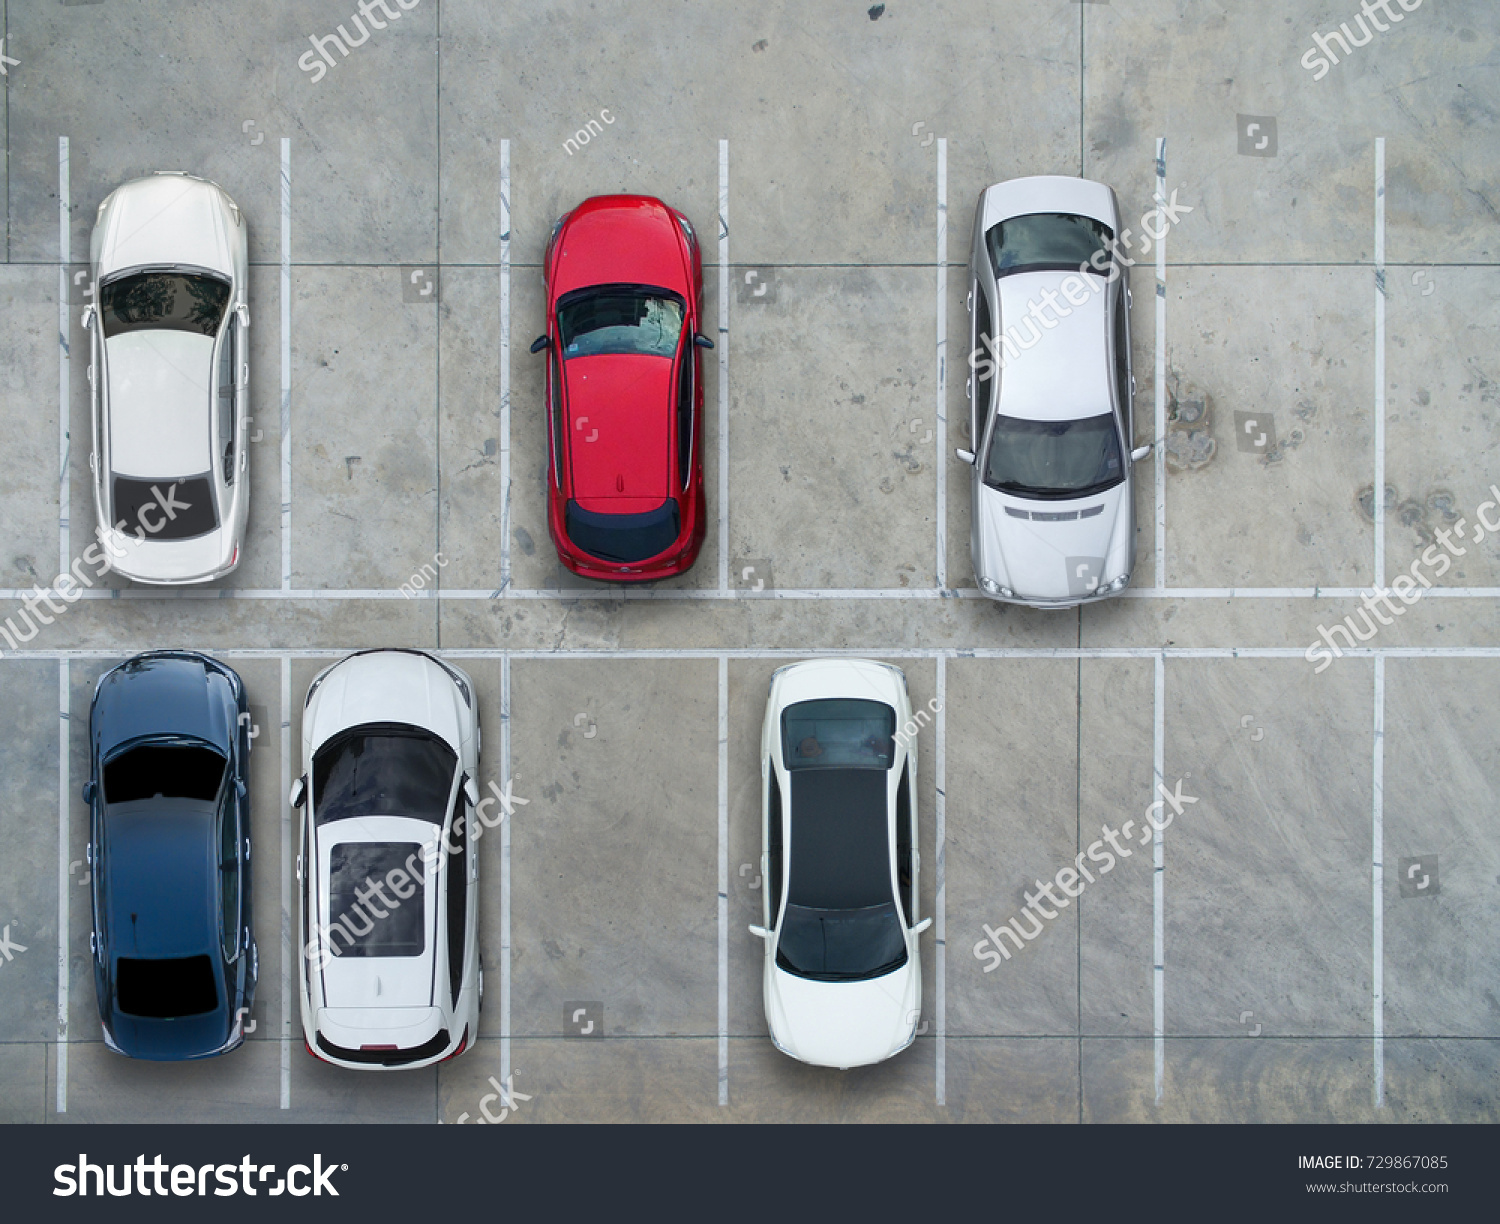Car: (292, 638, 485, 1079), (746, 654, 939, 1077), (80, 644, 268, 1066), (966, 168, 1137, 618), (87, 165, 265, 590), (541, 186, 711, 595)
LaneMark: (7, 644, 1500, 669), (698, 654, 743, 1126), (485, 653, 529, 1112), (44, 651, 87, 1121), (922, 651, 966, 1116), (1139, 649, 1180, 1123), (1, 585, 954, 603), (1360, 649, 1393, 1112), (926, 136, 956, 585), (493, 132, 518, 590), (1368, 131, 1389, 592), (57, 132, 74, 592), (282, 131, 298, 585), (718, 135, 733, 592), (1118, 588, 1498, 601), (1157, 150, 1165, 600)
